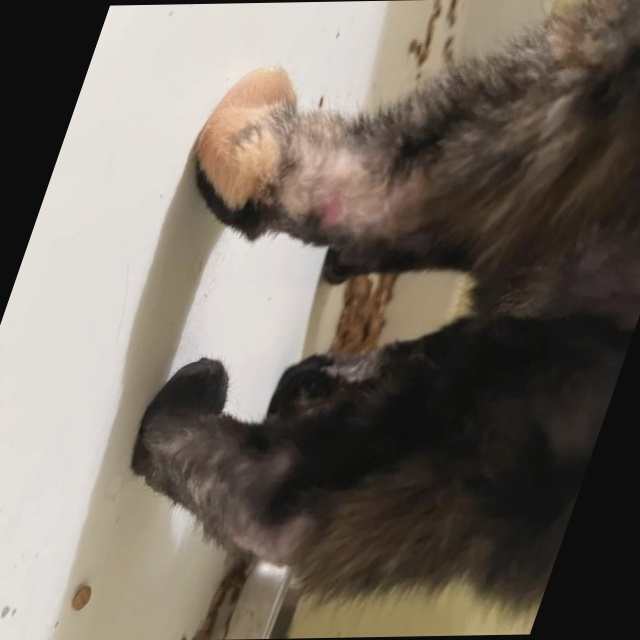hairloss: (252, 172, 409, 222), (221, 518, 301, 563)
